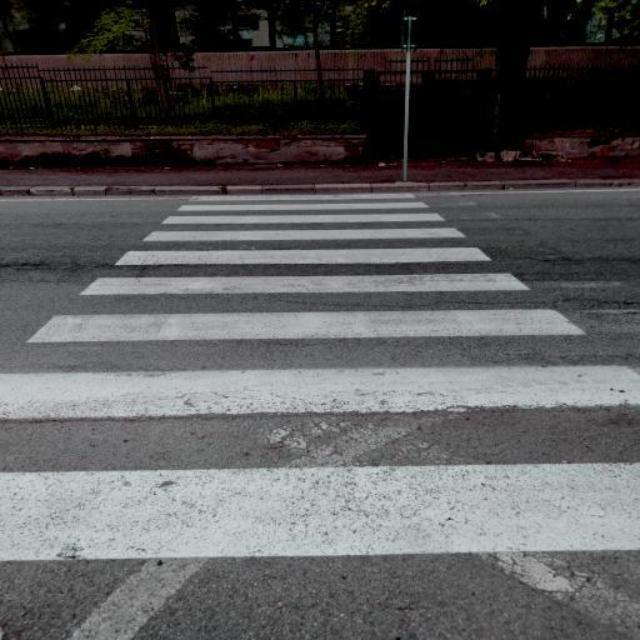sidewalk: (0, 192, 639, 561)
